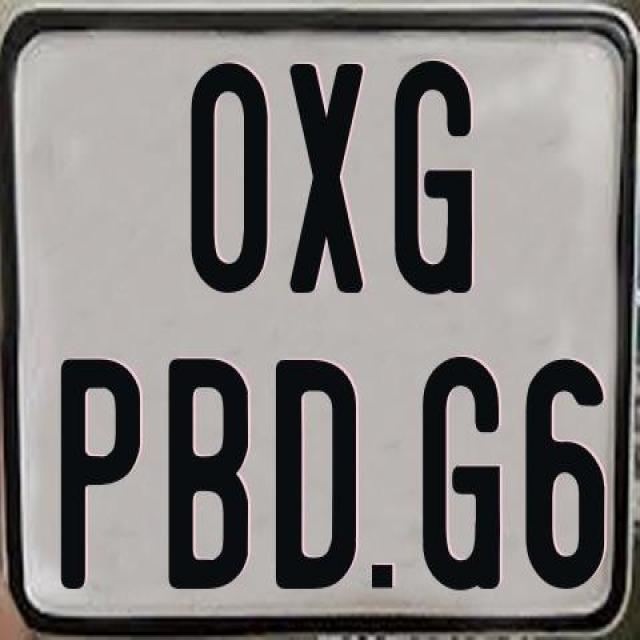0: (187, 61, 264, 293)
6: (522, 358, 606, 590)
B: (166, 358, 246, 597)
D: (274, 360, 358, 592)
G: (392, 56, 472, 291), (421, 357, 498, 590)
P: (57, 353, 144, 584)
X: (290, 59, 366, 288)
